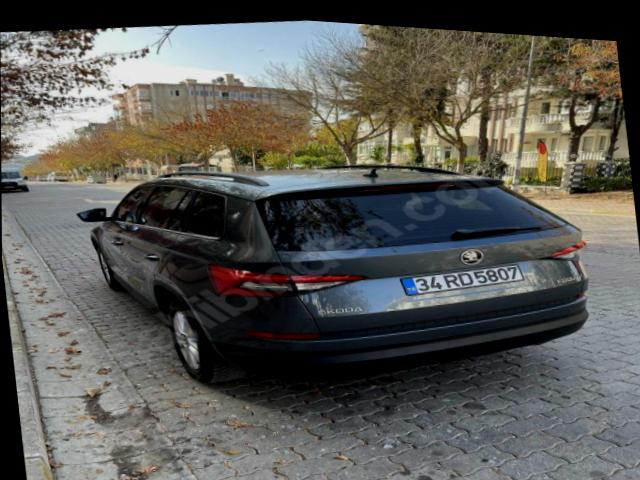plaka: (402, 264, 524, 295)
